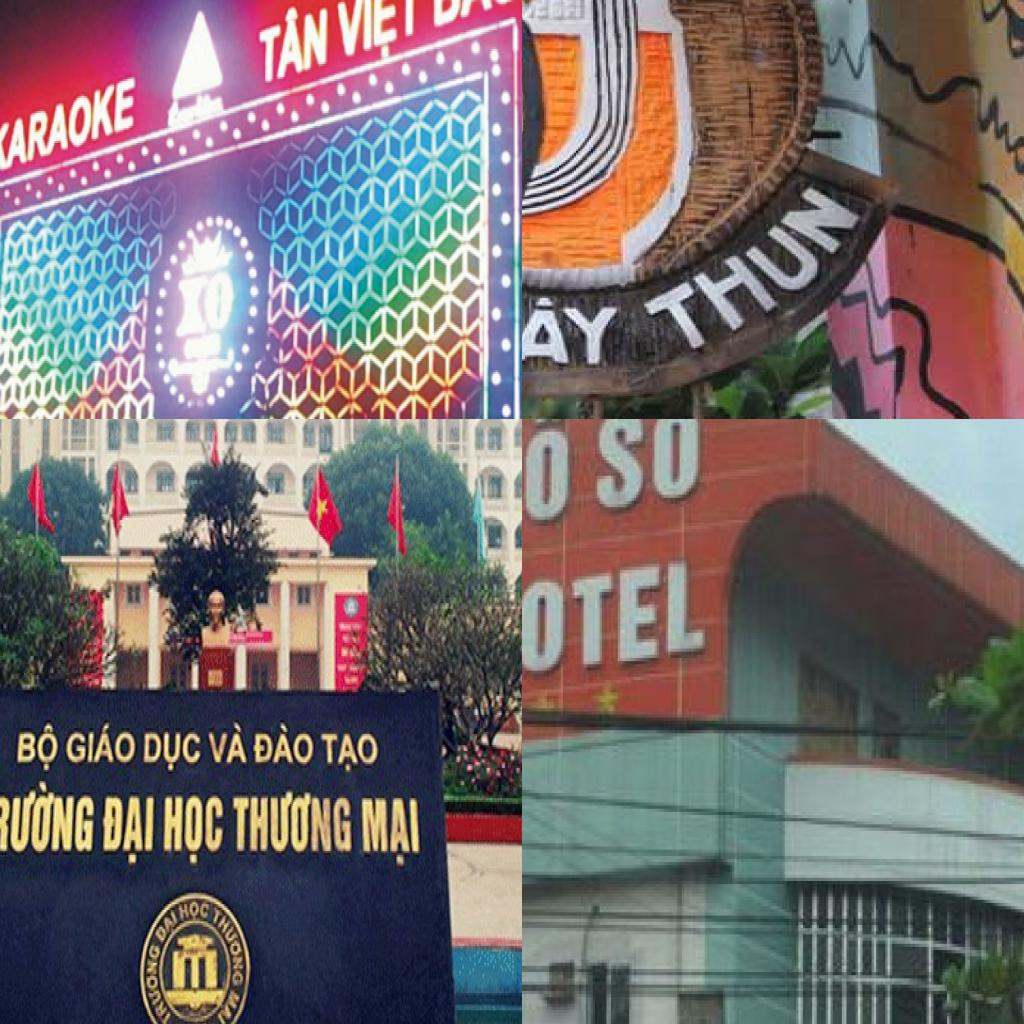text: (630, 182, 872, 304), (522, 541, 716, 692), (0, 71, 137, 178), (595, 419, 716, 516), (522, 287, 622, 370), (0, 777, 99, 856), (232, 791, 354, 855), (522, 419, 581, 545), (254, 0, 330, 88), (335, 0, 426, 73), (209, 882, 256, 990), (162, 796, 225, 866), (98, 794, 157, 868), (173, 269, 233, 340), (362, 796, 421, 866), (134, 938, 175, 1024), (64, 721, 137, 766), (251, 720, 315, 768), (432, 0, 519, 34), (142, 730, 203, 774), (320, 730, 380, 774), (16, 718, 61, 774), (206, 721, 248, 766), (153, 900, 180, 952), (215, 985, 244, 1024), (177, 900, 213, 927)
